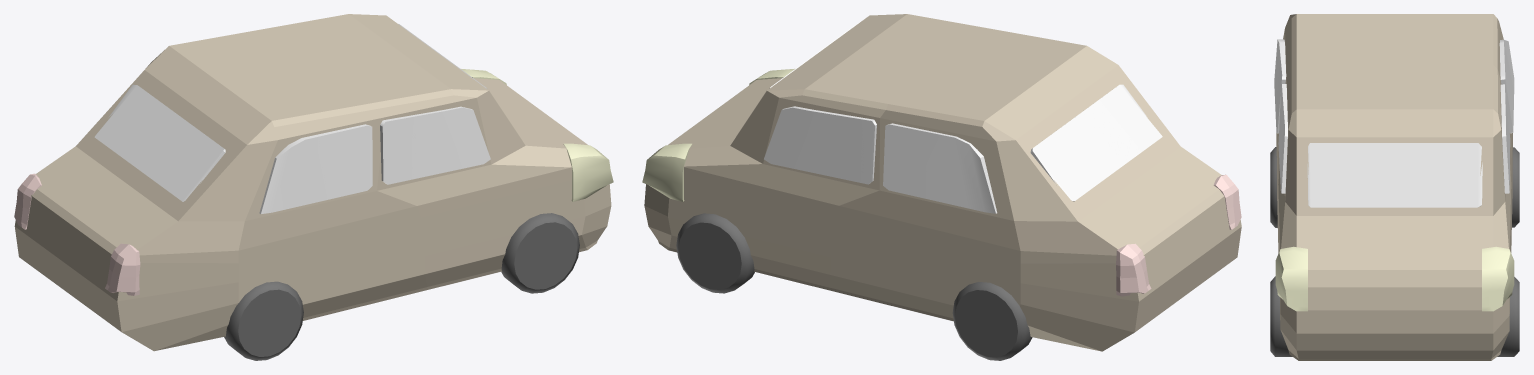
The model's file is CarroVeige.fbx.
The picture shows the model from 3 angles, left to right: view 1: azimuth 30°, elevation 25°; view 2: azimuth 150°, elevation 25°; view 3: azimuth 270°, elevation 25°; orthographic projection. The views are drawn at different scales.
Parts seen in each view (by area): view 1: pCube1, pCube10, pCube7, pCube8, pCylinder1, pCylinder2, pCube11, pCube9; view 2: pCube1, pCube10, pCube4, pCube3, pCylinder3, pCylinder4, pCube11, pCube9; view 3: pCube1, pCube6, pCube9, pCube4, pCylinder1, pCylinder3, pCube8, pCube3, pCube7, pCylinder4, pCylinder2.
Part boxes in pixels (box(x1,y1,x2,y2)): pCube1: box(14, 14, 611, 351); pCube10: box(94, 84, 225, 201); pCube7: box(259, 124, 372, 213); pCube8: box(380, 106, 490, 184); pCylinder1: box(501, 213, 579, 293); pCylinder2: box(224, 281, 303, 360); pCube11: box(14, 173, 140, 295); pCube9: box(461, 69, 613, 201); pCube1: box(644, 14, 1241, 351); pCube10: box(1030, 84, 1162, 201); pCube4: box(883, 123, 997, 213); pCube3: box(764, 106, 876, 184); pCylinder3: box(676, 213, 754, 293); pCylinder4: box(952, 282, 1032, 360); pCube11: box(1116, 174, 1241, 296); pCube9: box(642, 68, 794, 201); pCube1: box(1276, 14, 1512, 360); pCube6: box(1307, 143, 1482, 207); pCube9: box(1275, 246, 1514, 311); pCube4: box(1499, 39, 1514, 133); pCylinder1: box(1270, 276, 1292, 356); pCylinder3: box(1497, 277, 1519, 356); pCube8: box(1278, 84, 1287, 193); pCube3: box(1500, 84, 1510, 193); pCube7: box(1274, 39, 1286, 133); pCylinder4: box(1512, 147, 1519, 227); pCylinder2: box(1270, 147, 1277, 227).
Bounding box in the file's own units: 24.41 × 10.7 × 11.09.
